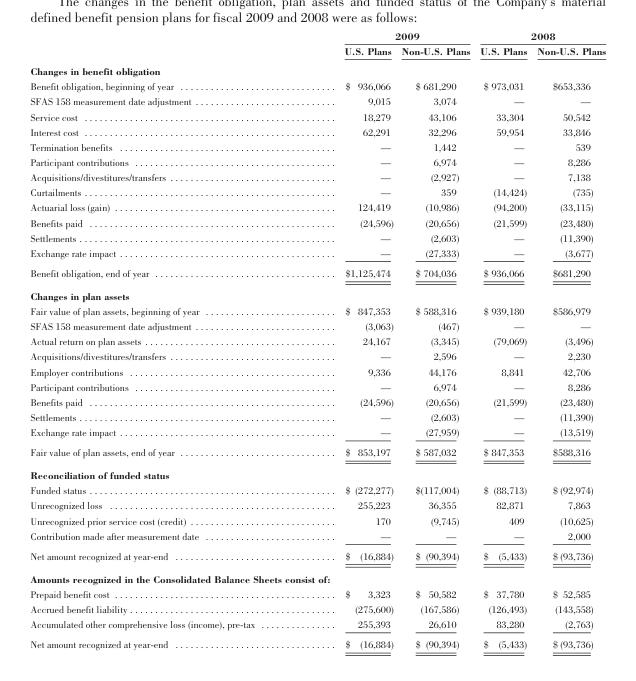table: (29, 29, 605, 649)
table column: (29, 29, 298, 649), (298, 29, 396, 649), (396, 29, 474, 649), (531, 29, 605, 649), (474, 29, 531, 649)
table column header: (29, 29, 605, 60)
table projected row header: (29, 283, 605, 303), (29, 566, 605, 586), (29, 463, 605, 482), (29, 60, 605, 78)
table row: (29, 441, 605, 463), (29, 262, 605, 283), (29, 545, 605, 566), (29, 283, 605, 303), (29, 566, 605, 586), (29, 463, 605, 482), (29, 42, 605, 60), (29, 60, 605, 78), (29, 244, 605, 262), (29, 527, 605, 545), (29, 424, 605, 441), (29, 616, 605, 633), (29, 138, 605, 154), (29, 393, 605, 409), (29, 633, 605, 649), (29, 78, 605, 93), (29, 93, 605, 108), (29, 108, 605, 123), (29, 123, 605, 138), (29, 154, 605, 169), (29, 169, 605, 184), (29, 184, 605, 199), (29, 199, 605, 214), (29, 214, 605, 229), (29, 229, 605, 244), (29, 303, 605, 318), (29, 318, 605, 333), (29, 333, 605, 348), (29, 348, 605, 363), (29, 363, 605, 378), (29, 378, 605, 393), (29, 409, 605, 424), (29, 482, 605, 497), (29, 497, 605, 512), (29, 512, 605, 527), (29, 586, 605, 601), (29, 601, 605, 616), (29, 29, 605, 42)
table spanning cell: (298, 29, 474, 42), (474, 29, 605, 42)
